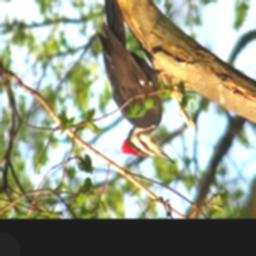Woodpecker: (94, 0, 180, 168)
